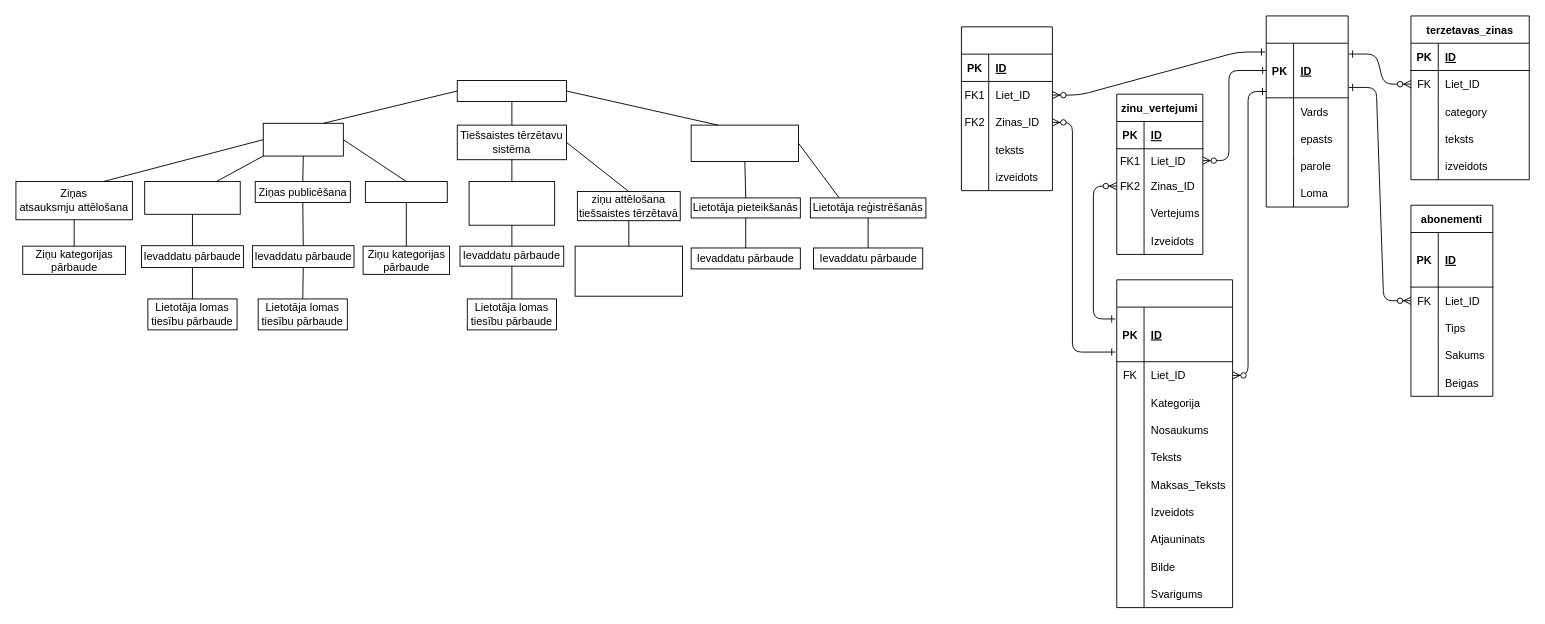
Some shapes in this 1545 by 624 pixel diagram are drawn without their labels. Each missing label, with the box of its shape:
atsauksmes: (961, 26, 1052, 191)
lietotaji: (1265, 15, 1348, 207)
Lietotāju kontu sistēma: (690, 124, 799, 162)
Publicēto ziņu sistēma: (262, 122, 343, 156)
Tiešsaistes tērzētavas ziņu kategorijas pārbaude: (574, 245, 682, 296)
Tiešsaistes tērzētavas ziņu publicēšana: (468, 181, 555, 225)
zinas: (1116, 279, 1233, 608)
Ziņas atsauksmju publicēšana: (144, 181, 240, 214)
Ziņu attēlošana: (364, 181, 447, 202)
Ziņu portāls: (456, 80, 566, 101)
